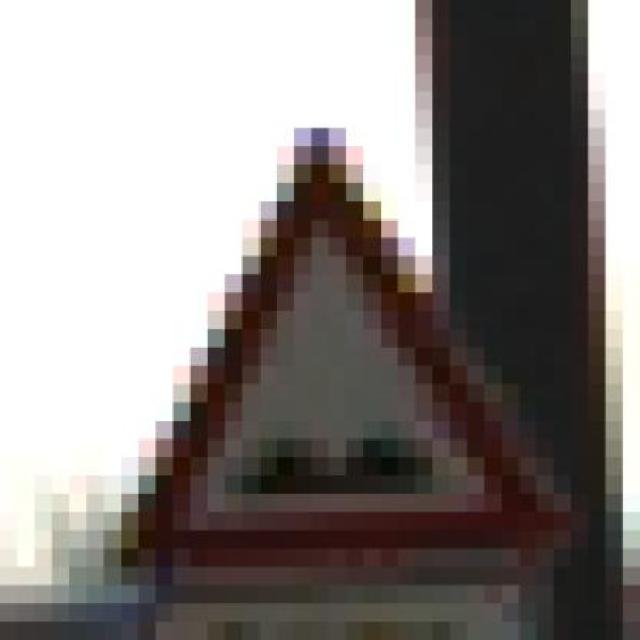Uneven Road: (89, 128, 574, 584)
